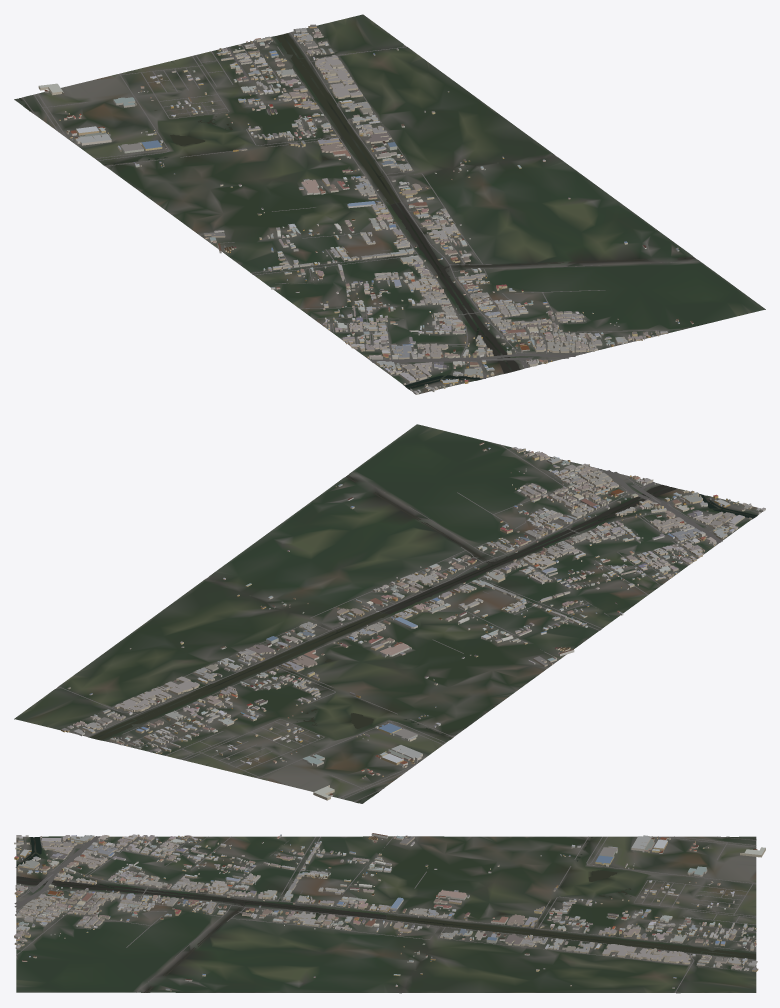
3 views of the same model, one above another, from view 1: azimuth 30°, elevation 25°; view 2: azimuth 150°, elevation 25°; view 3: azimuth 270°, elevation 25° (orthographic). The views are drawn at different scales.
Parts seen in each view (by area): view 1: ground, buildings, roads, water; view 2: ground, buildings, roads, water; view 3: ground, buildings, roads, water.
Boxes of the visible parts, x1,y1,x2,y2 form: ground: [14, 14, 765, 394]; buildings: [38, 24, 693, 394]; roads: [22, 32, 700, 391]; water: [19, 33, 695, 389]; ground: [14, 424, 762, 803]; buildings: [61, 442, 765, 800]; roads: [58, 444, 758, 801]; water: [90, 475, 756, 802]; ground: [16, 836, 756, 993]; buildings: [14, 833, 765, 991]; roads: [14, 836, 756, 992]; water: [16, 836, 756, 992].
Size of the model in its own units: 1413 by 18.59 by 2846.
